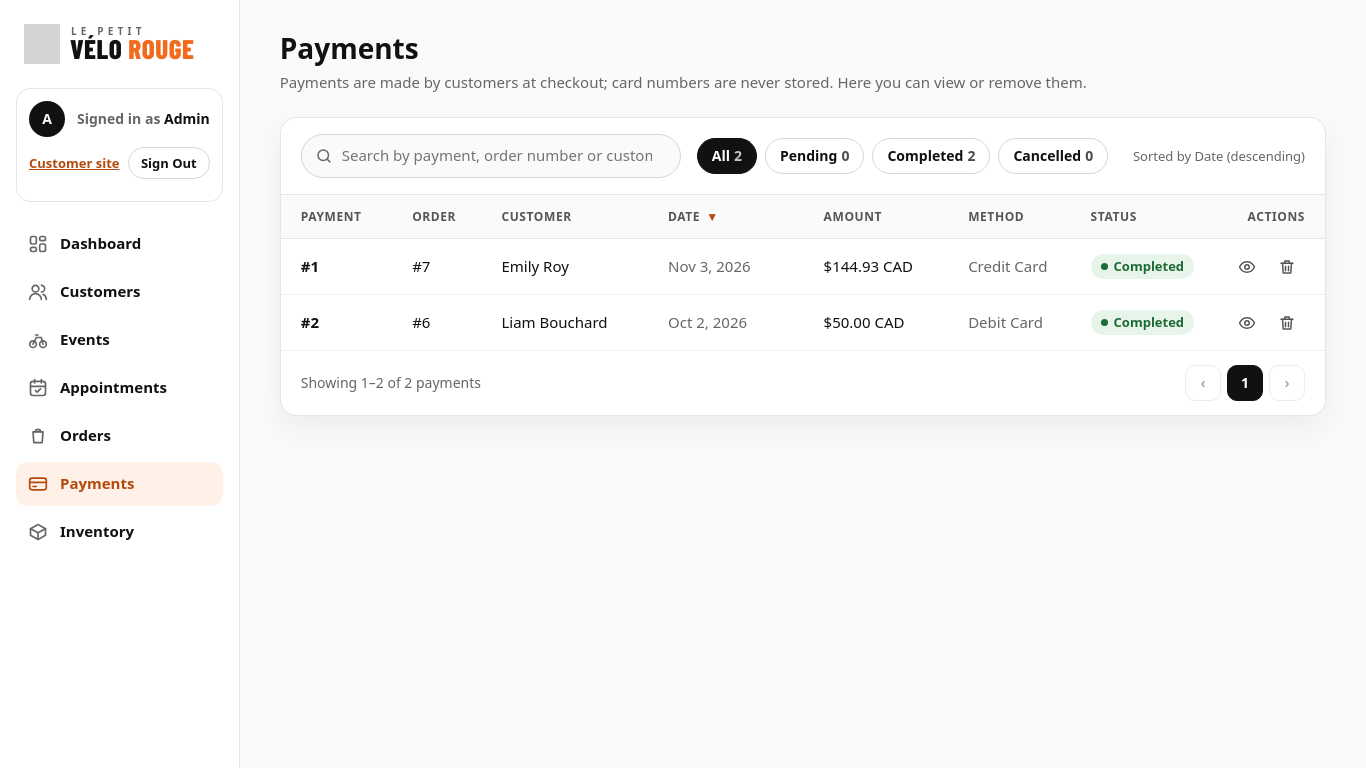
Scenario: view-and-delete modules › filters payments by status and search
Expected: the button "#1" is shown, top-left (301, 249), bottom-right (319, 285)
Expected: the text "Showing 1–2 of 2 payments" is shown, top-left (301, 373), bottom-right (481, 394)
Click the button "Pending0" at coordinates (815, 156), box top-left (765, 138), bottom-right (864, 174)
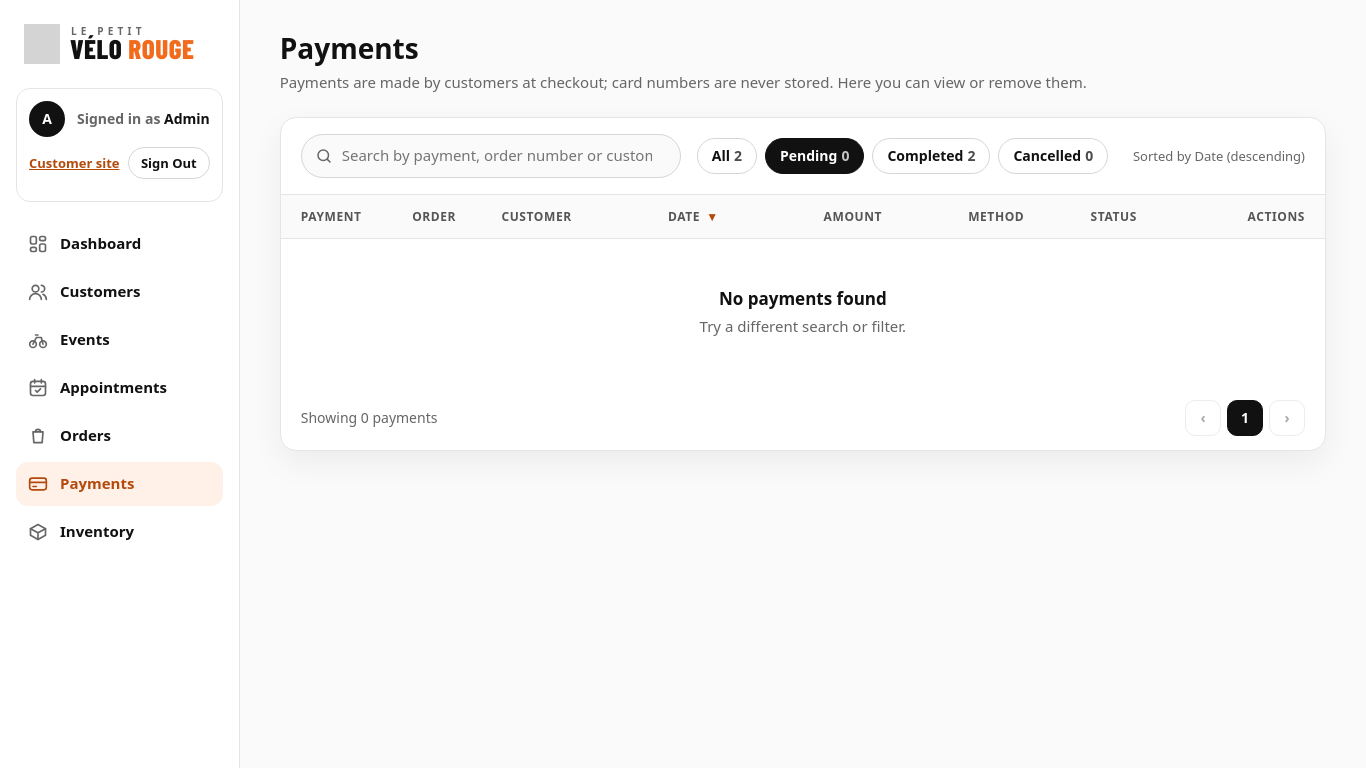
Expected: the text "No payments found" is shown, top-left (719, 287), bottom-right (887, 310)
Click the button "All2" at coordinates (727, 156), box top-left (697, 138), bottom-right (757, 174)
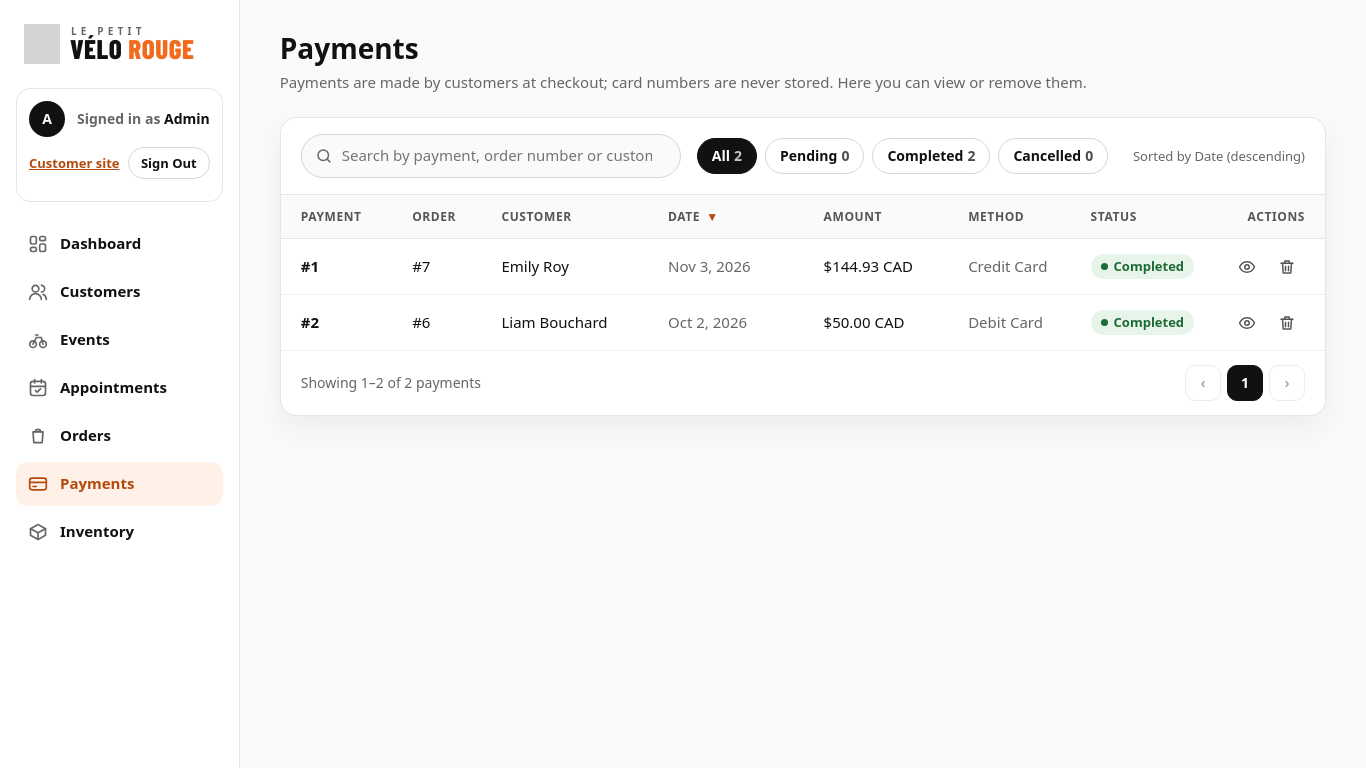
Type "liam" into the search field named "Search payments" at coordinates (491, 156), box top-left (301, 134), bottom-right (681, 178)
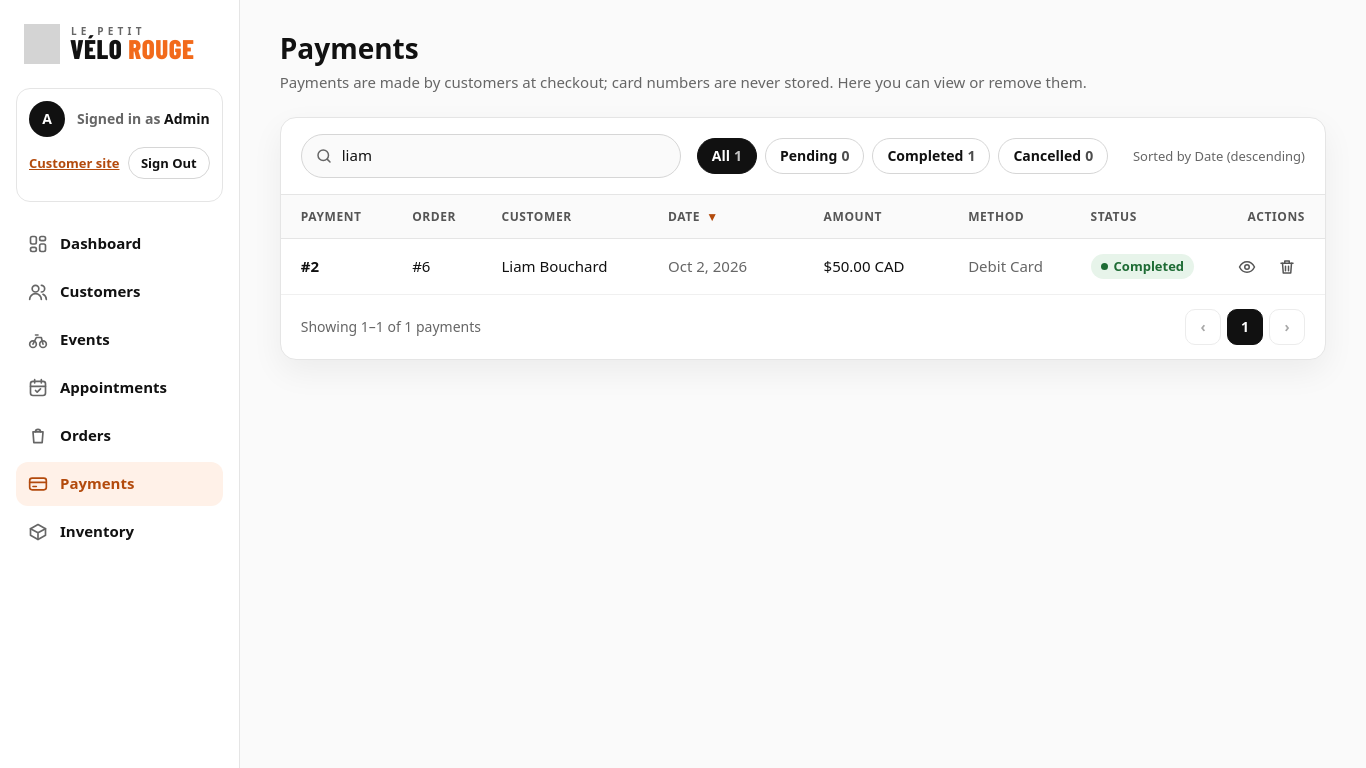
Expected: the button "#2" is shown, top-left (301, 249), bottom-right (319, 285)
Expected: the button "#1" is gone
